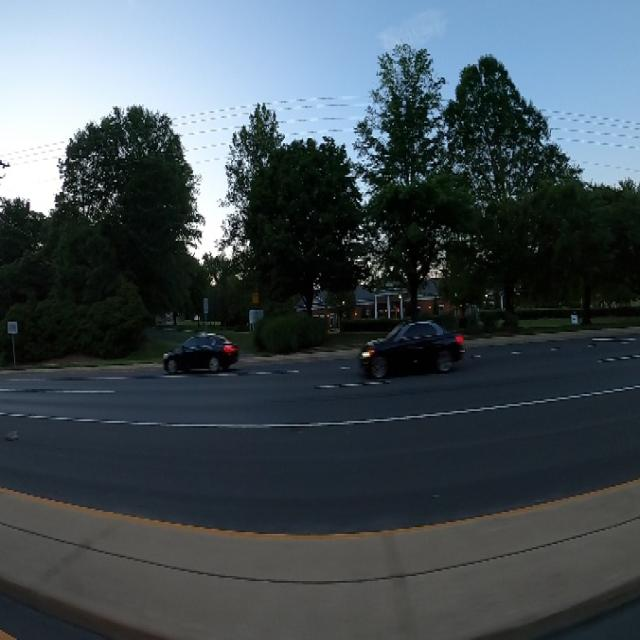cars: (355, 312, 466, 383), (161, 329, 239, 377)
